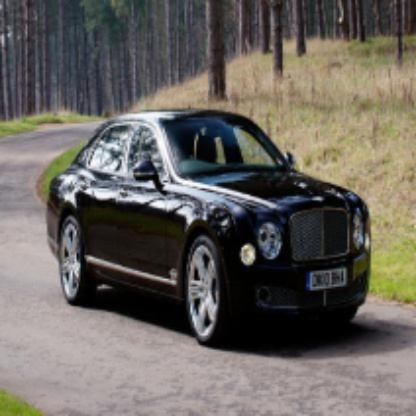Vehicle: (48, 112, 372, 350)
